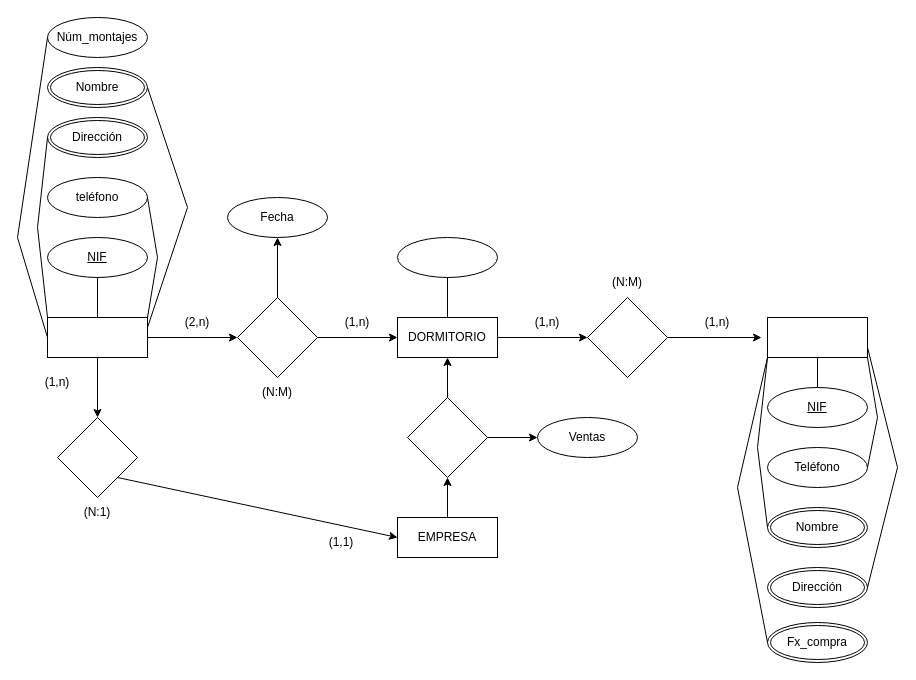
The diagram is 916 pixels wide and 680 high, and some of its shapes have lost their labels. The shapes that lost their labels are listed below. From the top down, each one's centre as x and y in pixels, then its label:
point (447, 257): Cod_modelo
point (97, 337): MONTADOR
point (277, 337): monta
point (627, 337): vendido a
point (817, 337): CLIENTE
point (97, 457): trabaja
point (447, 437): vende
